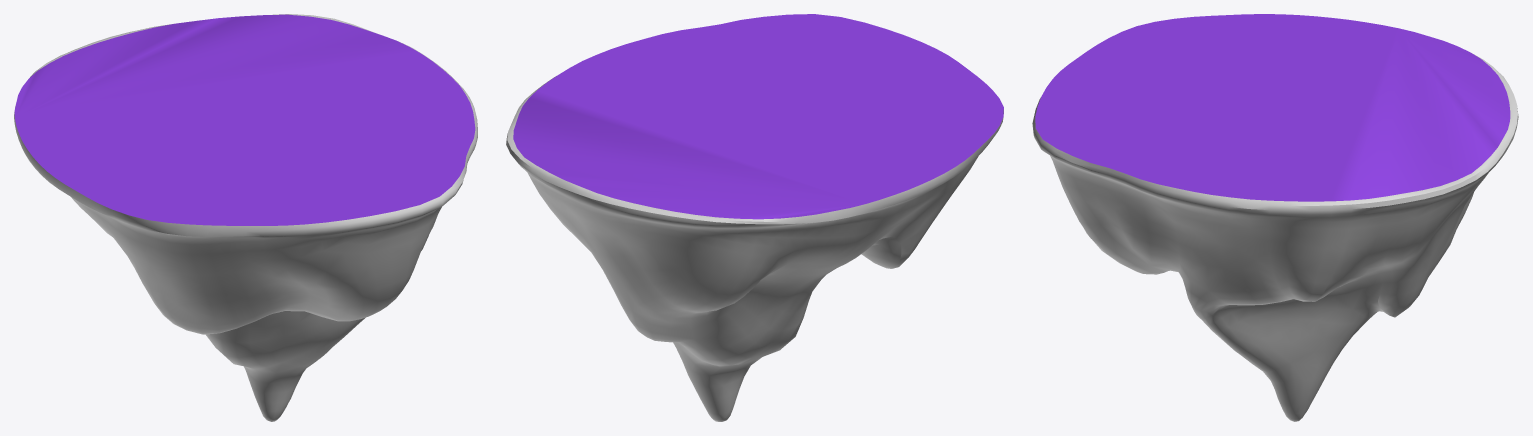
Rendered from FloatingIsland.fbx.
3 renders of one model, left to right at view 1: azimuth 30°, elevation 25°; view 2: azimuth 150°, elevation 25°; view 3: azimuth 270°, elevation 25°, orthographic. The views are drawn at different scales.
Visible parts, largest first — view 1: Island.001; view 2: Island.001; view 3: Island.001.
Boxes of the visible parts, box(x1,y1,x2,y2) form: Island.001: box(14, 14, 477, 421); Island.001: box(506, 14, 1003, 421); Island.001: box(1032, 14, 1518, 421).
Bounding box in the file's own units: 657 × 481 × 710.
